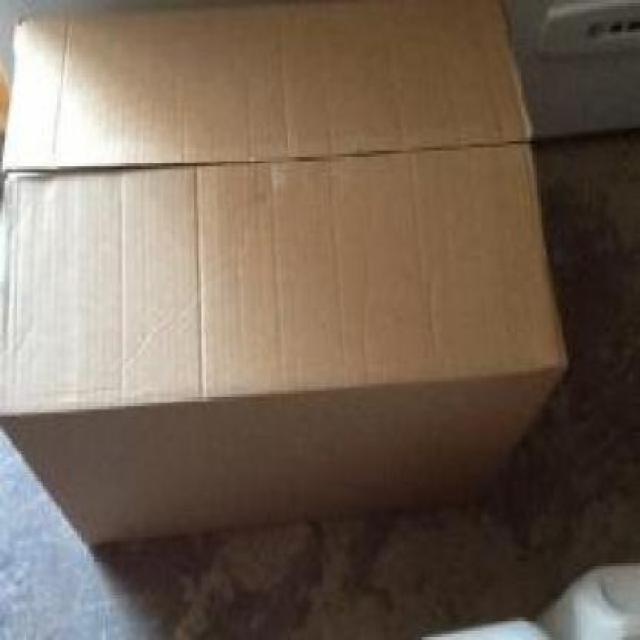box: (0, 0, 566, 545)
